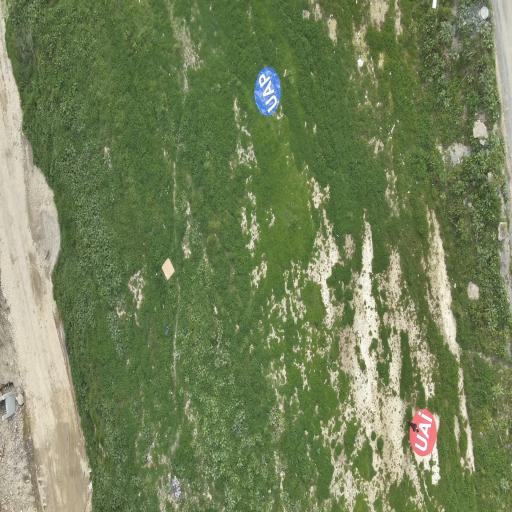UAI: (410, 410, 437, 456)
UAP: (255, 68, 280, 115)
person: (409, 422, 418, 432)
